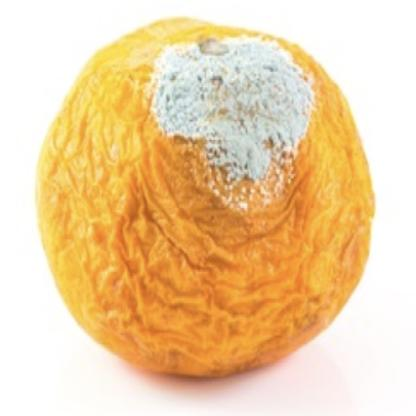rotten: (36, 20, 375, 383)
